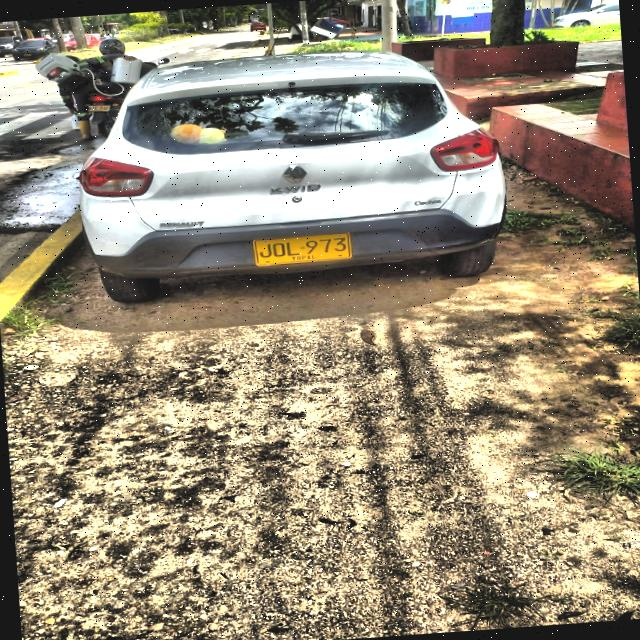3: (332, 237, 347, 252)
7: (318, 238, 333, 254)
9: (305, 240, 319, 254)
J: (258, 243, 272, 258)
L: (285, 240, 300, 256)
O: (271, 242, 286, 257)
